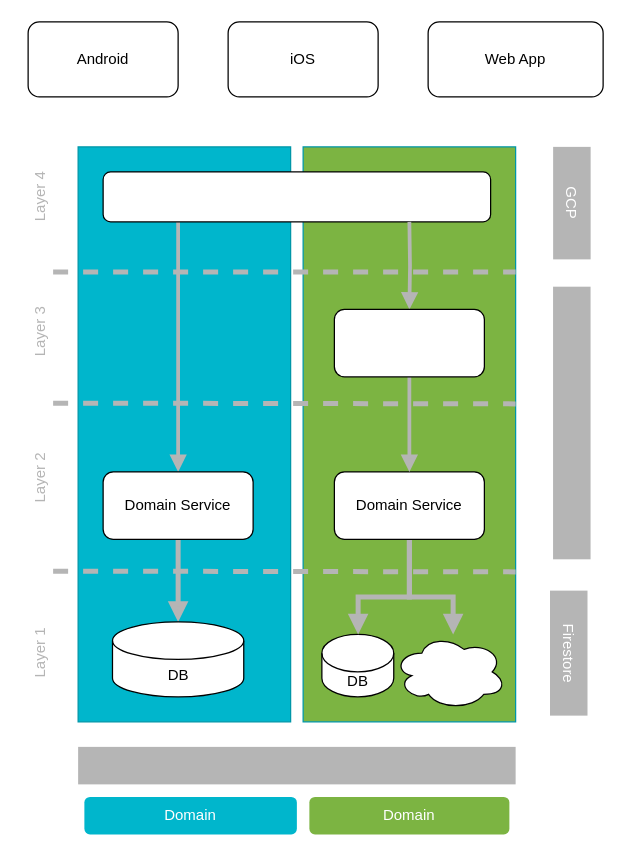
This 625x856 diagram has some shape labels left out. The shapes that lost their labels are listed below. From the top down, each one's centre as x and y in pixels, then its label:
At (296,196): "API Gateway".
At (408,342): "Middle Layer".
At (571,422): "Docker Runtime".
At (449,671): "3rd Party APIs".
At (296,765): "Landing Zone".
